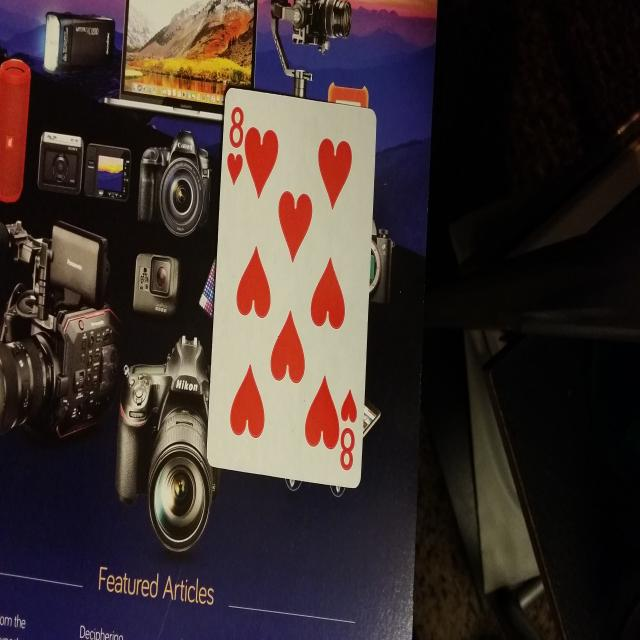8h: (333, 377, 361, 482), (224, 94, 250, 198)
